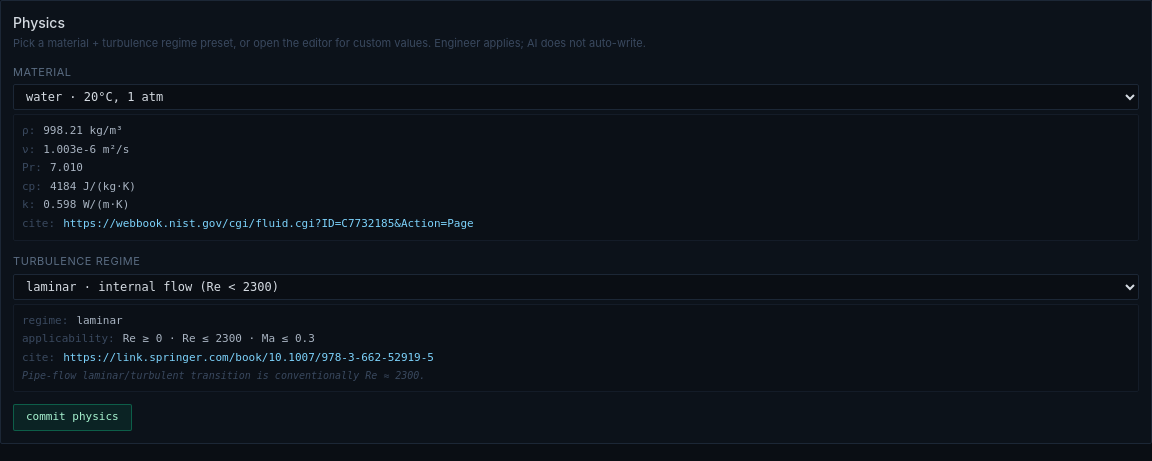
Test: PhysicsPanel · commit › disables commit button while submitting
Click the button with test id "physics-commit-button".
click(72, 417)  # box x1=13 y1=404 x2=132 y2=430
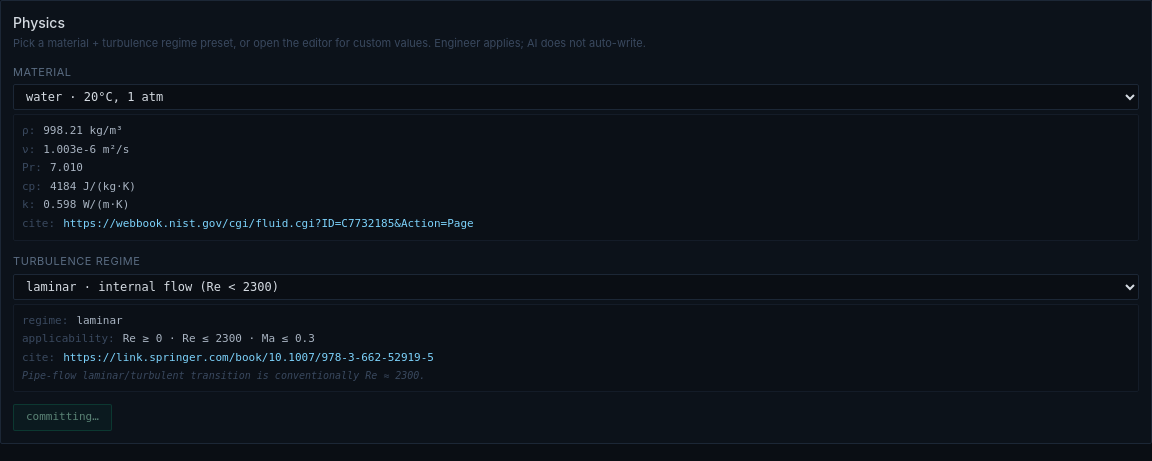
Check: the button with test id "physics-commit-button" is disabled, box x1=13 y1=404 x2=112 y2=430
Check: the button with test id "physics-commit-button" shows "committing", box x1=13 y1=404 x2=112 y2=430
